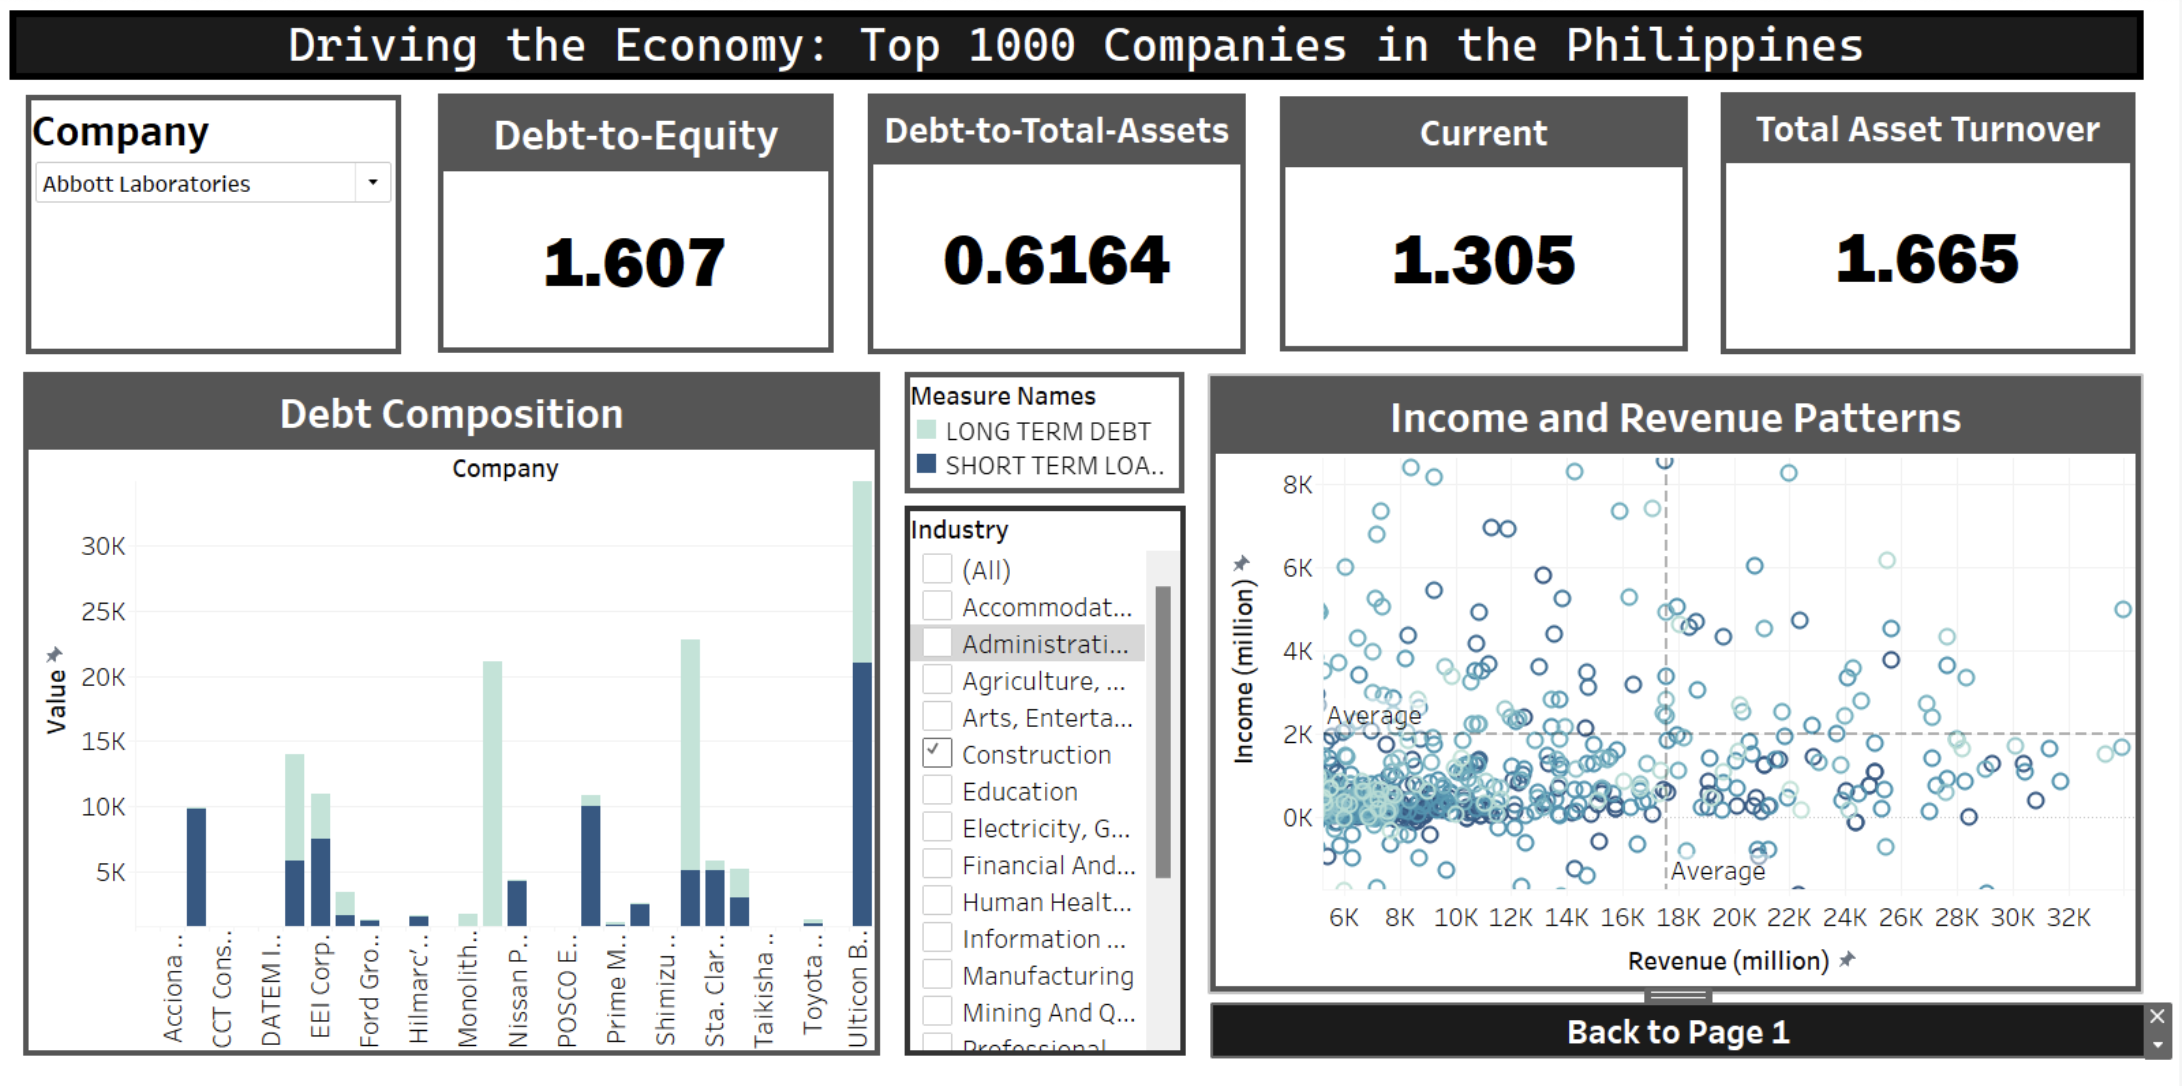

This screenshot's page, from the dashboard's own definition file:
{"tool":"tableau","page":{"name":"Dashboard 2","canvas":[1600,800],"ordinal":1},"visuals":[{"type":"text","box":[10,10,1564,51]},{"type":"worksheet","title":"Total Asset Turnover","mark":"Automatic","box":[1264,70,304,188]},{"type":"worksheet","title":"Debt-to-Equity","mark":"Automatic","box":[324,71,290,190]},{"type":"worksheet","title":"Debt-to-Total Assets","mark":"Automatic","box":[639,71,287,189]},{"type":"filter","title":"Debt-to-Equity","param":"[federated.07hzdsn0sv9lp61ahmo981x85230].[none:Company:nk]","box":[22,72,275,190]},{"type":"worksheet","title":"Current","mark":"Automatic","box":[951,73,289,186]},{"type":"worksheet","title":"Debt Composition","mark":"Automatic","cols":["Company"],"box":[20,275,628,501]},{"type":"legend","title":"Debt Composition","param":"[federated.07hzdsn0sv9lp61ahmo981x85230].[:Measure Names]","box":[666,275,205,89]},{"type":"worksheet","title":"Scatterplot","mark":"Shape","rows":["Income (million)"],"cols":["Revenue (million)"],"box":[890,275,682,454]},{"type":"filter","title":"Debt Composition","param":"[federated.07hzdsn0sv9lp61ahmo981x85230].[none:Industry:nk]","box":[666,373,206,403]},{"type":"dashboard-object","box":[892,739,682,37]}]}

Visuals, with their boxes in screenshot pixels (x1, y1, x2, y2), scaled from the page's 1600x800 canvas onto the 2182x1086 screenshot:
text: box(14, 14, 2147, 83)
"Total Asset Turnover" worksheet: box(1724, 95, 2138, 350)
"Debt-to-Equity" worksheet: box(442, 96, 837, 354)
"Debt-to-Total Assets" worksheet: box(871, 96, 1263, 353)
"Debt-to-Equity" filter: box(30, 98, 405, 356)
"Current" worksheet: box(1297, 99, 1691, 352)
"Debt Composition" worksheet: box(27, 373, 884, 1053)
"Debt Composition" legend: box(908, 373, 1188, 494)
"Scatterplot" worksheet (Shape marks): box(1214, 373, 2144, 990)
"Debt Composition" filter: box(908, 506, 1189, 1053)
dashboard-object: box(1216, 1003, 2147, 1053)
